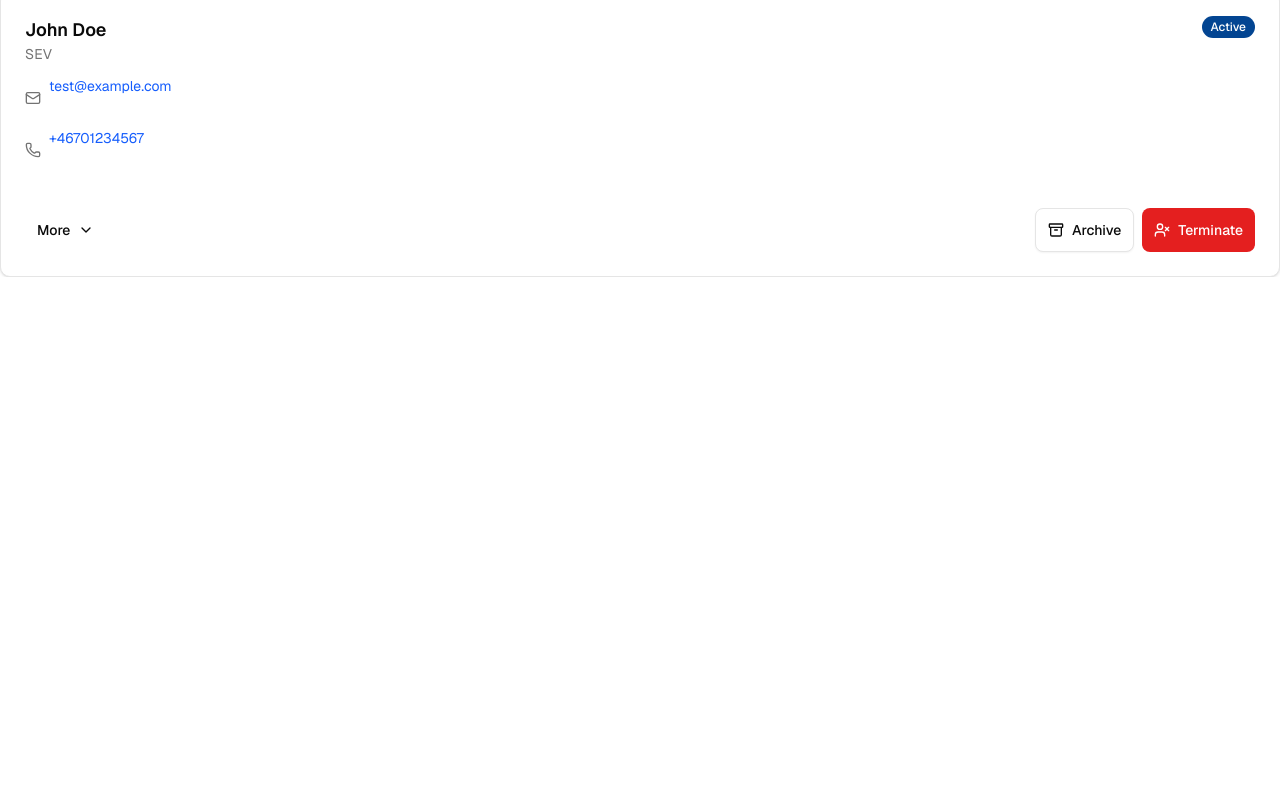
Scenario: EmployeeCard - Performance Tests › Task 5: Performance and Animation Tests › should expand card with large number of fields (50+) without lag
Click the button with aria-label "Expand details" at (66, 230), box [25,208,106,252]
(page scrolled)
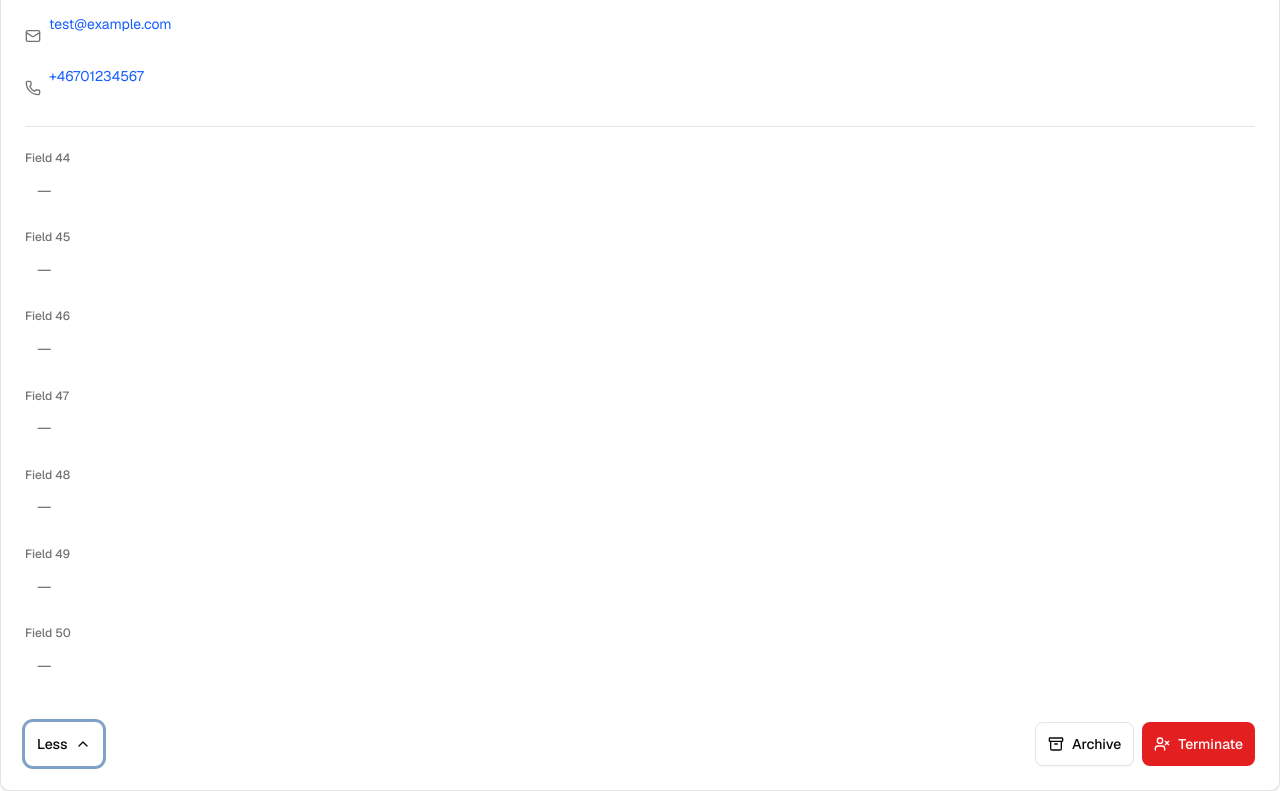
Check: the text "Field 50" is shown, box [25,625,71,641]
